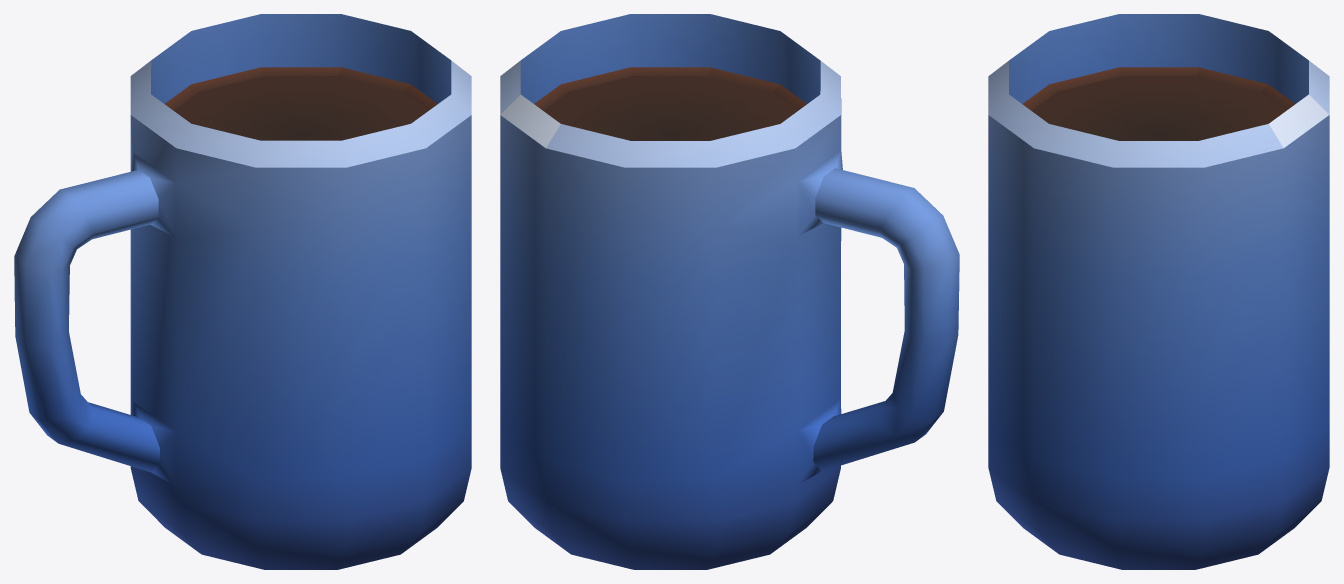
Rendered from m_GlassMug01_Tea04.fbx.
The picture shows the model from 3 angles, left to right: view 1: azimuth 30°, elevation 25°; view 2: azimuth 150°, elevation 25°; view 3: azimuth 270°, elevation 25°; orthographic projection.
Visible parts, largest first — view 1: m_GlassMug01_Tea04; view 2: m_GlassMug01_Tea04; view 3: m_GlassMug01_Tea04.
Part boxes in pixels (bbox=[...]): m_GlassMug01_Tea04: bbox=[14, 14, 471, 569]; m_GlassMug01_Tea04: bbox=[500, 14, 959, 569]; m_GlassMug01_Tea04: bbox=[988, 14, 1329, 569].
Bounding box in the file's own units: 11.37 × 10.99 × 7.81.
